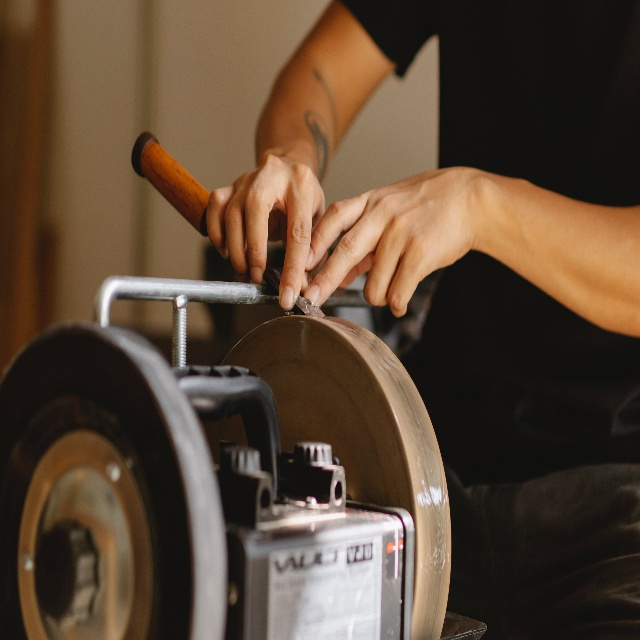Sin_guantes: (304, 164, 482, 317), (206, 150, 327, 311)
